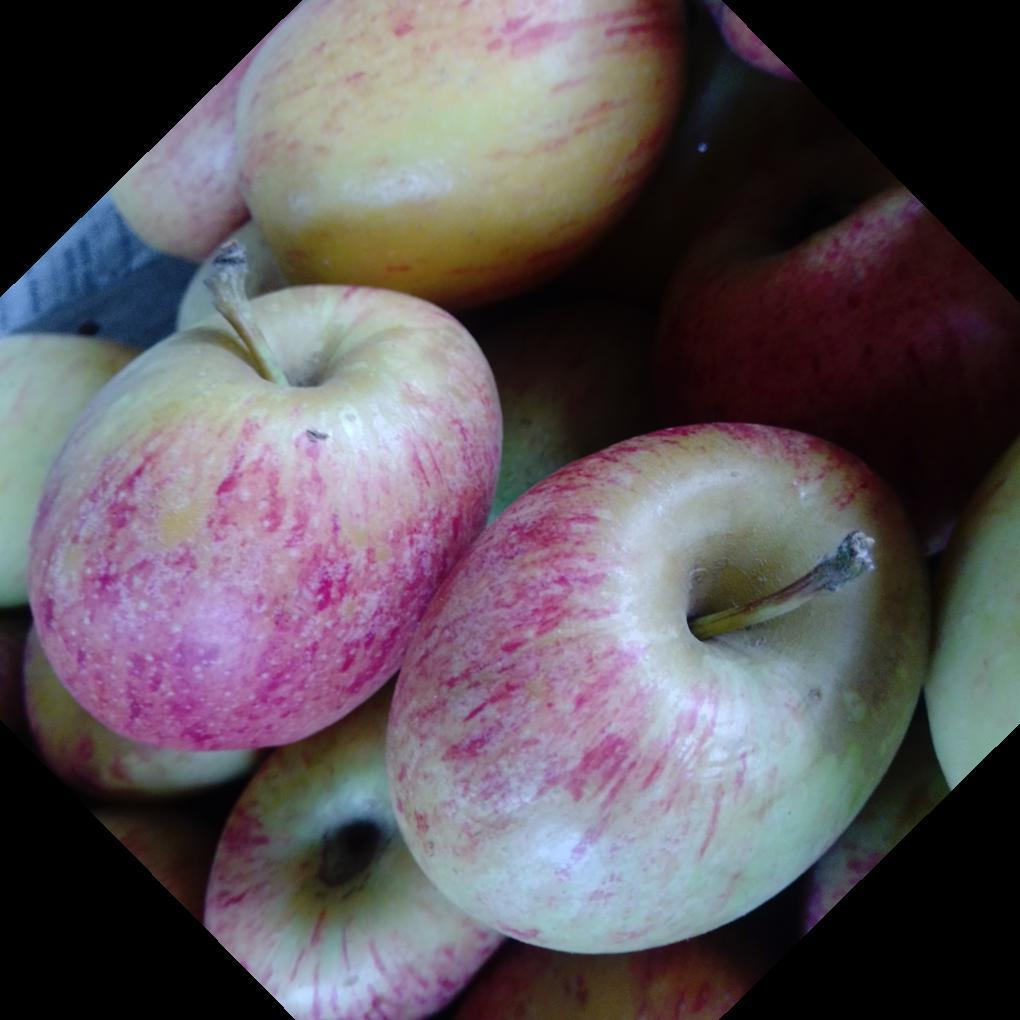FreshGuava: (6, 15, 1020, 1020)
